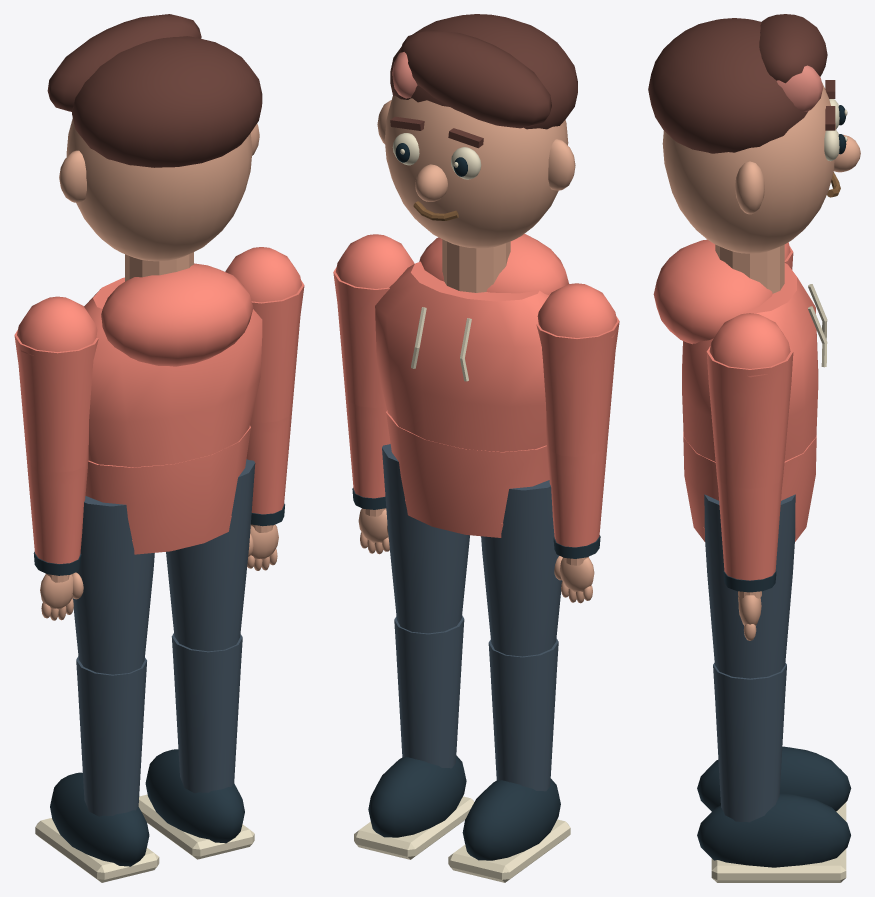
The model's file is iskra.glb.
The picture shows the model from 3 angles, left to right: view 1: azimuth 30°, elevation 25°; view 2: azimuth 150°, elevation 25°; view 3: azimuth 270°, elevation 25°; orthographic projection.
Parts seen in each view (by area): view 1: Release3D_iskra_Hood, Release3D_iskra_Brow-1, Release3D_iskra_Ear-1, Release3D_iskra_LeftShoulder, Release3D_iskra_Hem, Release3D_iskra_LeftTrouser, Release3D_iskra_RightTrouser, Release3D_iskra_RightCalf, Release3D_iskra_LeftCalf, Release3D_iskra_RightShoulder, Release3D_iskra_RightShoe, Release3D_iskra_LeftShoe (+8 smaller); view 2: Release3D_iskra_Hood, Release3D_iskra_Ear-1, Release3D_iskra_Brow-1, Release3D_iskra_LeftShoulder, Release3D_iskra_Hem, Release3D_iskra_LeftTrouser, Release3D_iskra_RightTrouser, Release3D_iskra_LeftCalf, Release3D_iskra_RightCalf, Release3D_iskra_RightShoulder, Release3D_iskra_LeftShoe, Release3D_iskra_RightShoe (+11 smaller); view 3: Release3D_iskra_Brow-1, Release3D_iskra_Ear-1, Release3D_iskra_Hood, Release3D_iskra_RightShoulder, Release3D_iskra_RightCalf, Release3D_iskra_RightTrouser, Release3D_iskra_RightShoe, Release3D_iskra_RightElbow, Release3D_iskra_Hem, Release3D_iskra_LeftShoe, Release3D_iskra_RightSole, Release3D_iskra_Neck (+5 smaller).
Boxes of the visible parts, left/top/right/bottom form: Release3D_iskra_Hood: left=84, top=263, right=262, bottom=467; Release3D_iskra_Brow-1: left=47, top=14, right=262, bottom=167; Release3D_iskra_Ear-1: left=59, top=118, right=259, bottom=261; Release3D_iskra_LeftShoulder: left=14, top=296, right=98, bottom=472; Release3D_iskra_Hem: left=85, top=426, right=250, bottom=554; Release3D_iskra_LeftTrouser: left=72, top=496, right=154, bottom=674; Release3D_iskra_RightTrouser: left=166, top=459, right=255, bottom=651; Release3D_iskra_RightCalf: left=171, top=633, right=242, bottom=793; Release3D_iskra_LeftCalf: left=76, top=656, right=146, bottom=816; Release3D_iskra_RightShoulder: left=225, top=247, right=304, bottom=422; Release3D_iskra_RightShoe: left=145, top=749, right=244, bottom=843; Release3D_iskra_LeftShoe: left=50, top=772, right=149, bottom=866; Release3D_iskra_Hood: left=375, top=234, right=568, bottom=451; Release3D_iskra_Ear-1: left=377, top=95, right=575, bottom=248; Release3D_iskra_Brow-1: left=390, top=14, right=577, bottom=148; Release3D_iskra_LeftShoulder: left=536, top=283, right=619, bottom=456; Release3D_iskra_Hem: left=386, top=410, right=549, bottom=537; Release3D_iskra_LeftTrouser: left=481, top=480, right=562, bottom=656; Release3D_iskra_RightTrouser: left=382, top=444, right=469, bottom=633; Release3D_iskra_LeftCalf: left=488, top=638, right=558, bottom=791; Release3D_iskra_RightCalf: left=394, top=615, right=464, bottom=768; Release3D_iskra_RightShoulder: left=333, top=234, right=414, bottom=407; Release3D_iskra_LeftShoe: left=462, top=778, right=560, bottom=860; Release3D_iskra_RightShoe: left=368, top=755, right=466, bottom=837; Release3D_iskra_Brow-1: left=648, top=14, right=835, bottom=153; Release3D_iskra_Ear-1: left=662, top=82, right=860, bottom=253; Release3D_iskra_Hood: left=653, top=239, right=818, bottom=461; Release3D_iskra_RightShoulder: left=706, top=313, right=793, bottom=488; Release3D_iskra_RightCalf: left=713, top=662, right=786, bottom=822; Release3D_iskra_RightTrouser: left=704, top=494, right=795, bottom=678; Release3D_iskra_RightShoe: left=697, top=793, right=850, bottom=867; Release3D_iskra_RightElbow: left=717, top=476, right=783, bottom=580; Release3D_iskra_Hem: left=683, top=432, right=816, bottom=541; Release3D_iskra_LeftShoe: left=697, top=746, right=851, bottom=811; Release3D_iskra_RightSole: left=711, top=849, right=846, bottom=882; Release3D_iskra_Neck: left=715, top=244, right=784, bottom=293.
Size of the model in its own units: 0.67 by 1.89 by 0.4416.
